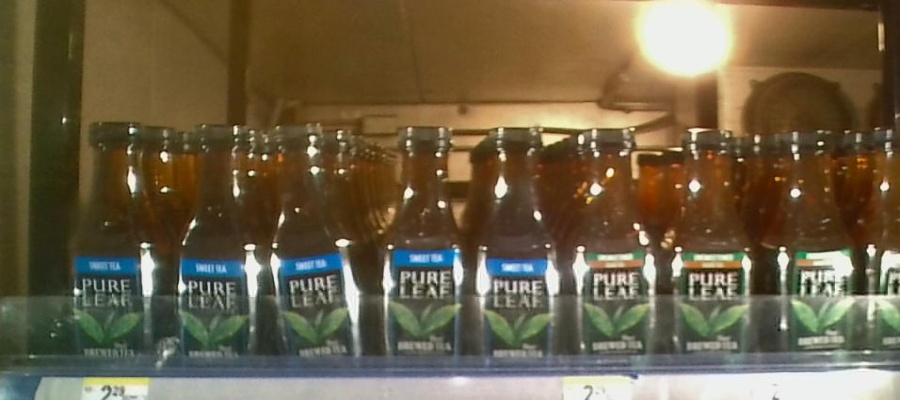bottle: (663, 123, 761, 372), (270, 119, 366, 373), (64, 115, 161, 366), (567, 119, 661, 377), (373, 122, 470, 367), (171, 120, 264, 366), (764, 129, 859, 363), (475, 122, 562, 372), (866, 125, 900, 354)
